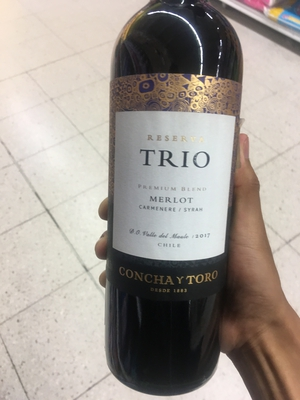trio merlot: (101, 9, 255, 400)
